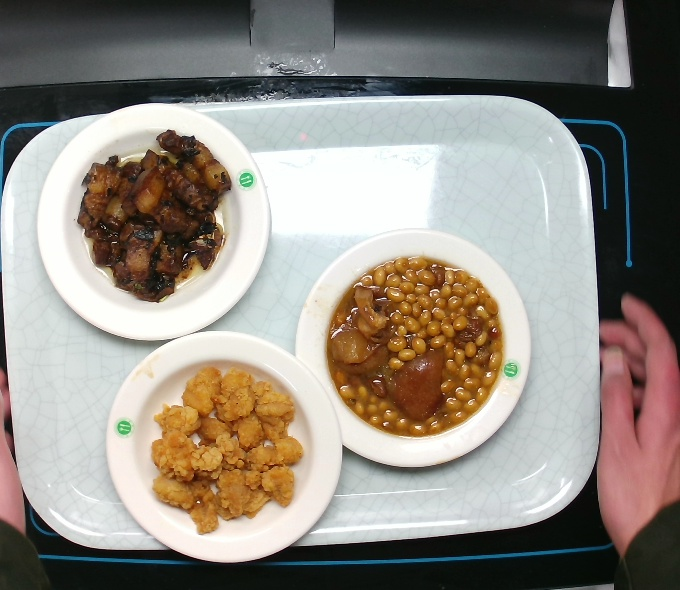wcq-GanCaiRou: (74, 128, 231, 304)
wcq-HuangDouZhuJiao: (324, 254, 504, 439)
wcq-JiMiHua: (148, 363, 306, 534)
